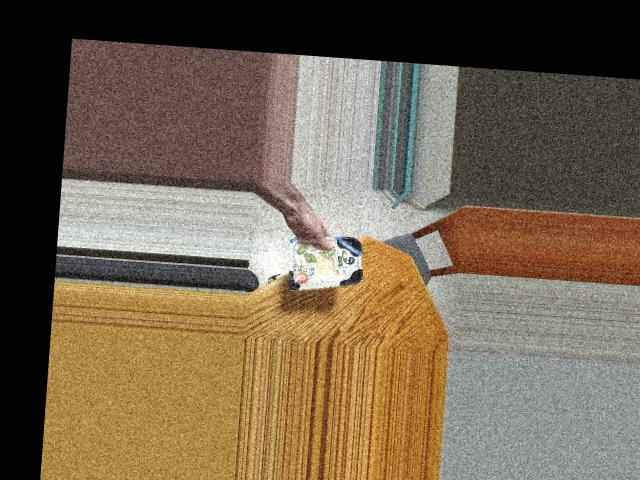cheese: (292, 233, 362, 290)
